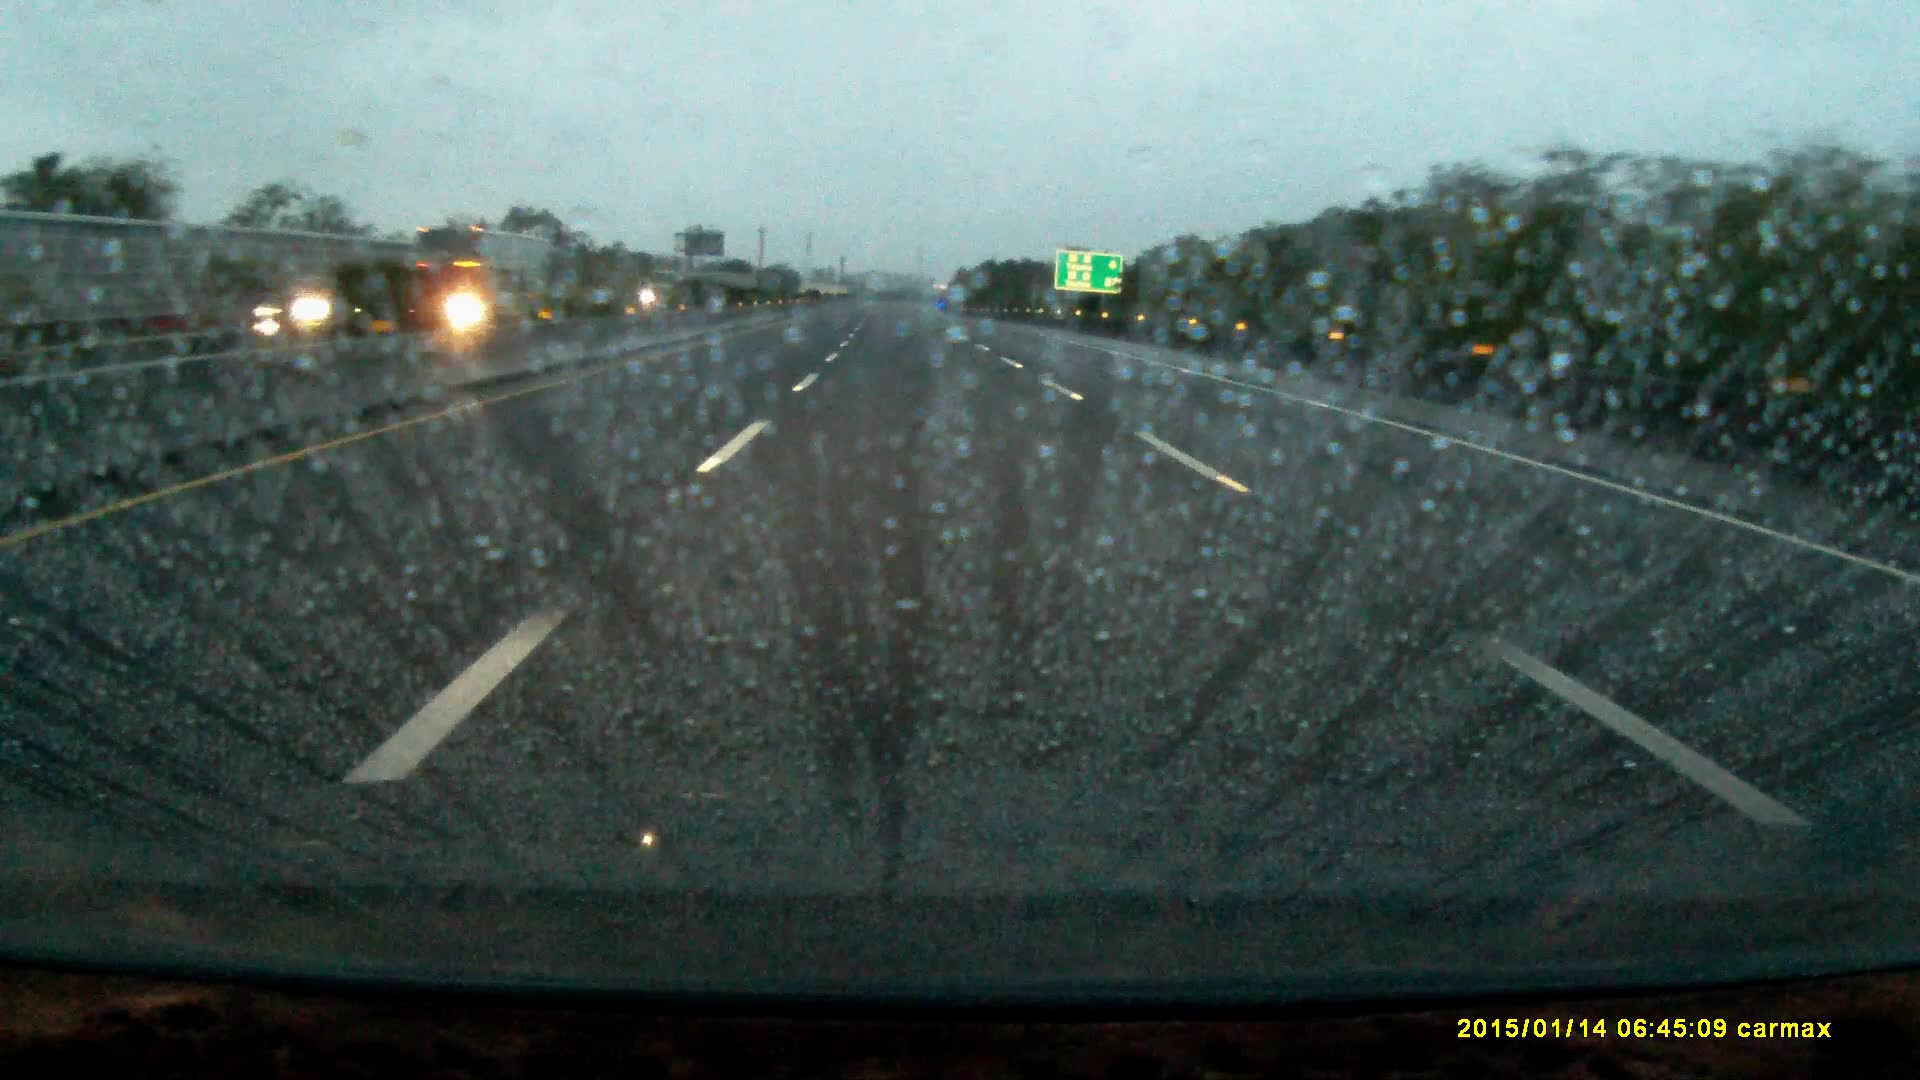vehicle: (400, 224, 546, 324), (256, 277, 369, 338), (645, 269, 694, 306)
